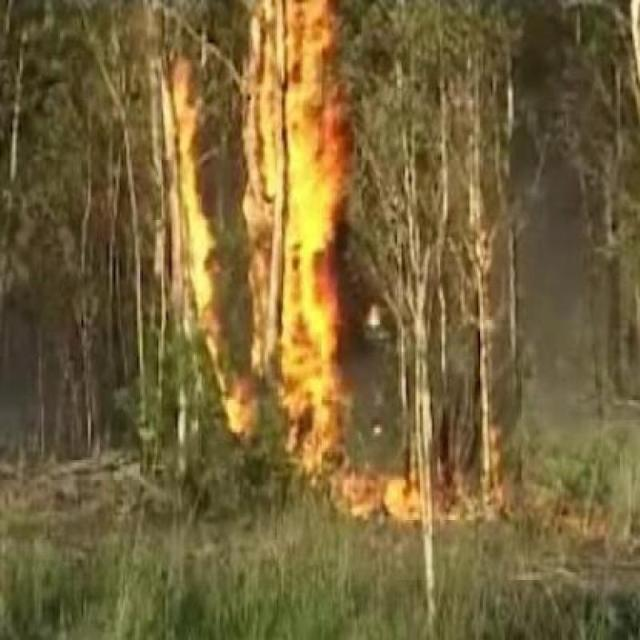Fire: (151, 65, 344, 500), (347, 461, 499, 549)
